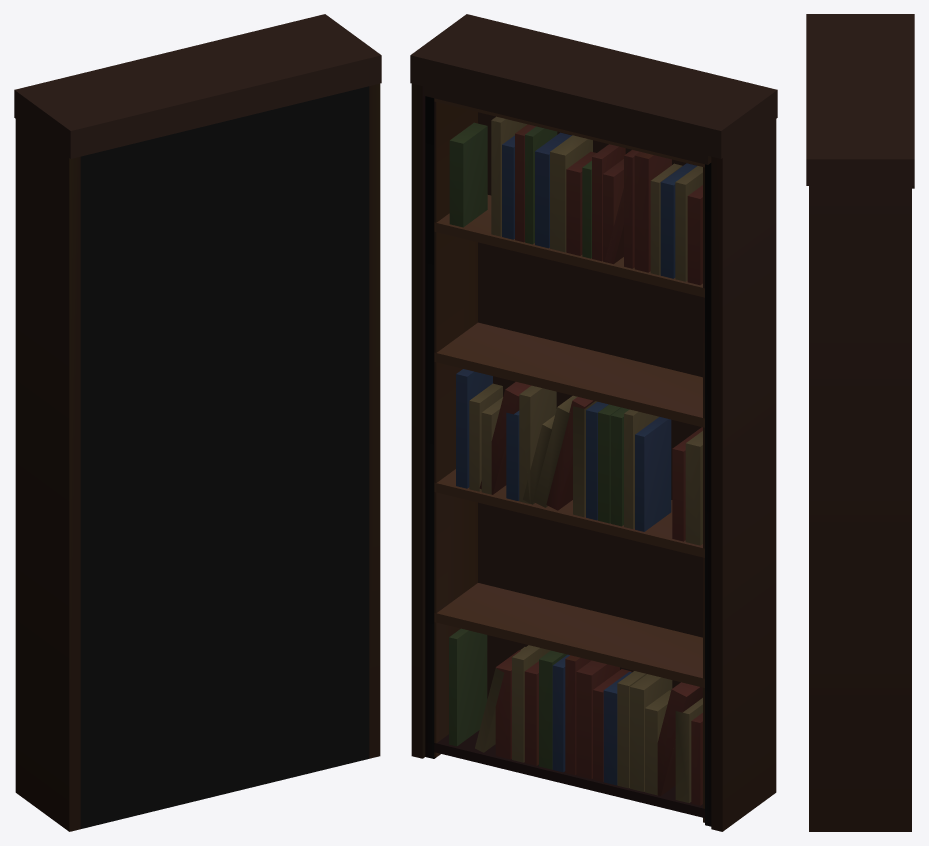
The model's file is secret_door_low.glb.
The picture shows the model from 3 angles, left to right: view 1: azimuth 30°, elevation 25°; view 2: azimuth 150°, elevation 25°; view 3: azimuth 270°, elevation 25°; orthographic projection. The views are drawn at different scales.
Visible parts, largest first — view 1: passage, secret_door; view 2: leaf, secret_door, passage; view 3: secret_door.
Part boxes in pixels (x1,y1,x2,y2): passage: [80, 86, 369, 828]; secret_door: [14, 14, 381, 831]; leaf: [423, 86, 711, 822]; secret_door: [410, 14, 777, 831]; passage: [425, 96, 711, 826]; secret_door: [806, 14, 914, 831].
Size of the model in its own units: 1.4 by 3.02 by 0.44.
